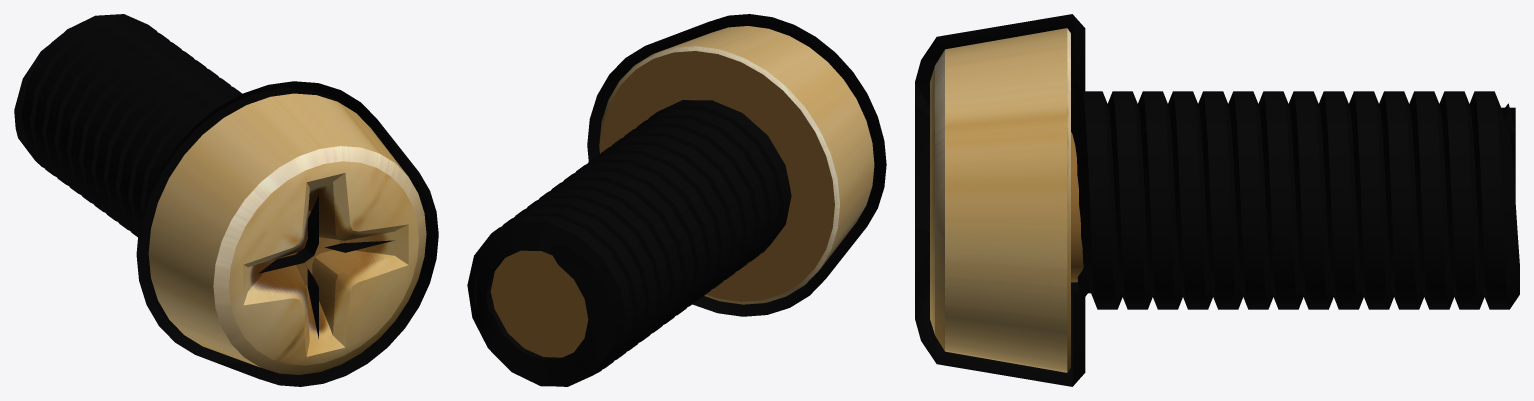
File: screw_wood.fbx
3 renders of one model, left to right at view 1: azimuth 30°, elevation 25°; view 2: azimuth 150°, elevation 25°; view 3: azimuth 270°, elevation 25°, orthographic. The views are drawn at different scales.
Parts seen in each view (by area): view 1: screw.head.stickwar.001; view 2: screw.head.stickwar.001; view 3: screw.head.stickwar.001.
Boxes of the visible parts, x1,y1,x2,y2 form: screw.head.stickwar.001: (14,14,438,386); screw.head.stickwar.001: (467,14,886,386); screw.head.stickwar.001: (915,14,1519,386).
Bounding box in the file's own units: 0.3714 × 0.3714 × 0.6016.
Materials: 2 (1 with a texture image).
